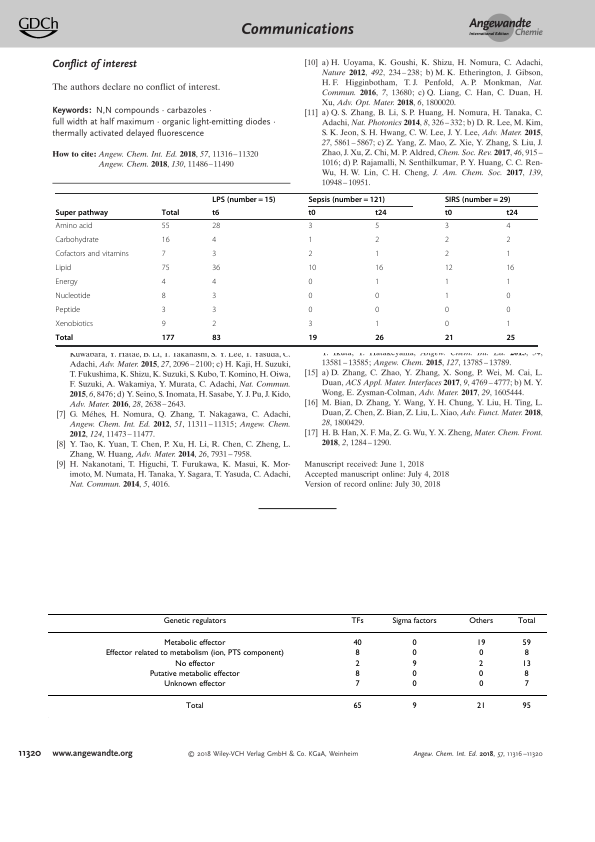borderless: (54, 191, 537, 345), (46, 612, 548, 719)
cell: (104, 649, 284, 659), (148, 669, 240, 679), (55, 249, 130, 259), (307, 195, 386, 204), (162, 616, 227, 626), (444, 195, 511, 204), (211, 195, 276, 204), (163, 639, 226, 648), (163, 680, 226, 689), (55, 208, 109, 218), (391, 616, 437, 626), (55, 235, 100, 245), (174, 659, 215, 669), (55, 319, 94, 329), (55, 221, 93, 231), (55, 291, 91, 301), (55, 305, 81, 315), (468, 616, 494, 626), (55, 277, 78, 287), (516, 616, 536, 626), (161, 208, 180, 218), (55, 333, 74, 343), (185, 702, 204, 712), (55, 263, 72, 273), (374, 208, 388, 218), (505, 208, 519, 218), (161, 333, 175, 343), (350, 616, 364, 626), (211, 333, 222, 343), (307, 333, 318, 343), (374, 333, 385, 343), (505, 333, 516, 343), (211, 221, 221, 231), (211, 263, 221, 273), (307, 263, 317, 273), (374, 263, 384, 273), (444, 263, 454, 273), (505, 263, 515, 273), (444, 333, 454, 343), (521, 659, 531, 669), (352, 702, 362, 712), (476, 702, 486, 712), (521, 702, 531, 712), (211, 208, 220, 218), (307, 208, 316, 218), (444, 208, 453, 218), (161, 221, 170, 231), (161, 235, 170, 245), (161, 263, 170, 273), (352, 639, 362, 648), (476, 639, 486, 648), (521, 639, 531, 648), (307, 221, 313, 231), (374, 221, 380, 231), (444, 221, 450, 231), (505, 221, 511, 231), (211, 235, 217, 245), (307, 235, 313, 245), (374, 235, 380, 245), (444, 235, 450, 245), (505, 235, 511, 245), (161, 249, 167, 259), (211, 249, 217, 259), (307, 249, 313, 259), (374, 249, 380, 259), (444, 249, 450, 259), (505, 249, 511, 259), (161, 277, 167, 287), (211, 277, 217, 287), (307, 277, 313, 287), (374, 277, 380, 287), (444, 277, 450, 287), (505, 277, 511, 287), (161, 291, 167, 301), (211, 291, 217, 301), (307, 291, 313, 301), (374, 291, 380, 301), (444, 291, 450, 301), (505, 291, 511, 301), (161, 305, 167, 315), (211, 305, 217, 315), (307, 305, 313, 315), (374, 305, 380, 315), (444, 305, 450, 315), (505, 305, 511, 315), (161, 319, 167, 329), (211, 319, 217, 329), (307, 319, 313, 329), (374, 319, 380, 329), (444, 319, 450, 329), (505, 319, 511, 329), (354, 649, 360, 659), (411, 649, 417, 659), (478, 649, 484, 659), (523, 649, 529, 659), (354, 659, 360, 669), (411, 659, 417, 669), (478, 659, 484, 669), (354, 669, 360, 679), (411, 669, 417, 679), (478, 669, 484, 679), (523, 669, 529, 679), (411, 702, 417, 712), (411, 639, 417, 648), (354, 680, 360, 689), (411, 680, 417, 689), (478, 680, 484, 689), (523, 680, 529, 689)
